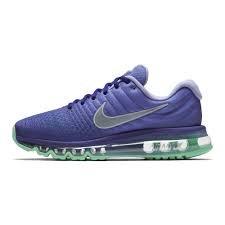nike: (91, 101, 170, 128)
